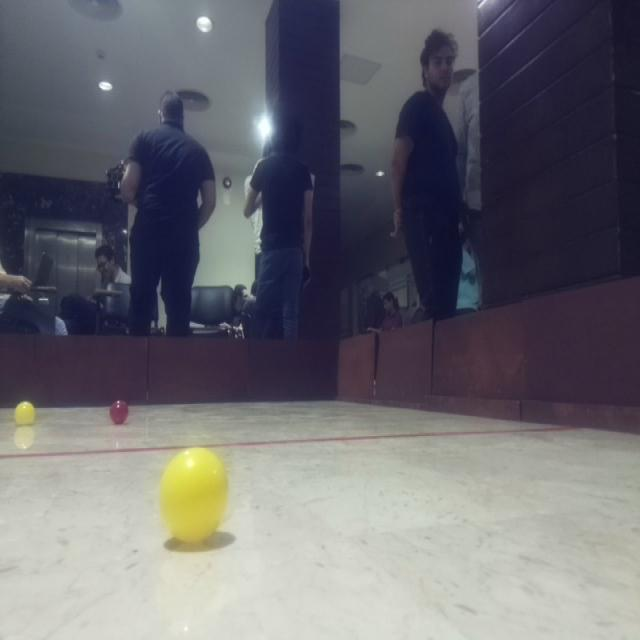ball: (157, 440, 228, 551), (11, 396, 38, 425), (108, 397, 133, 427)
